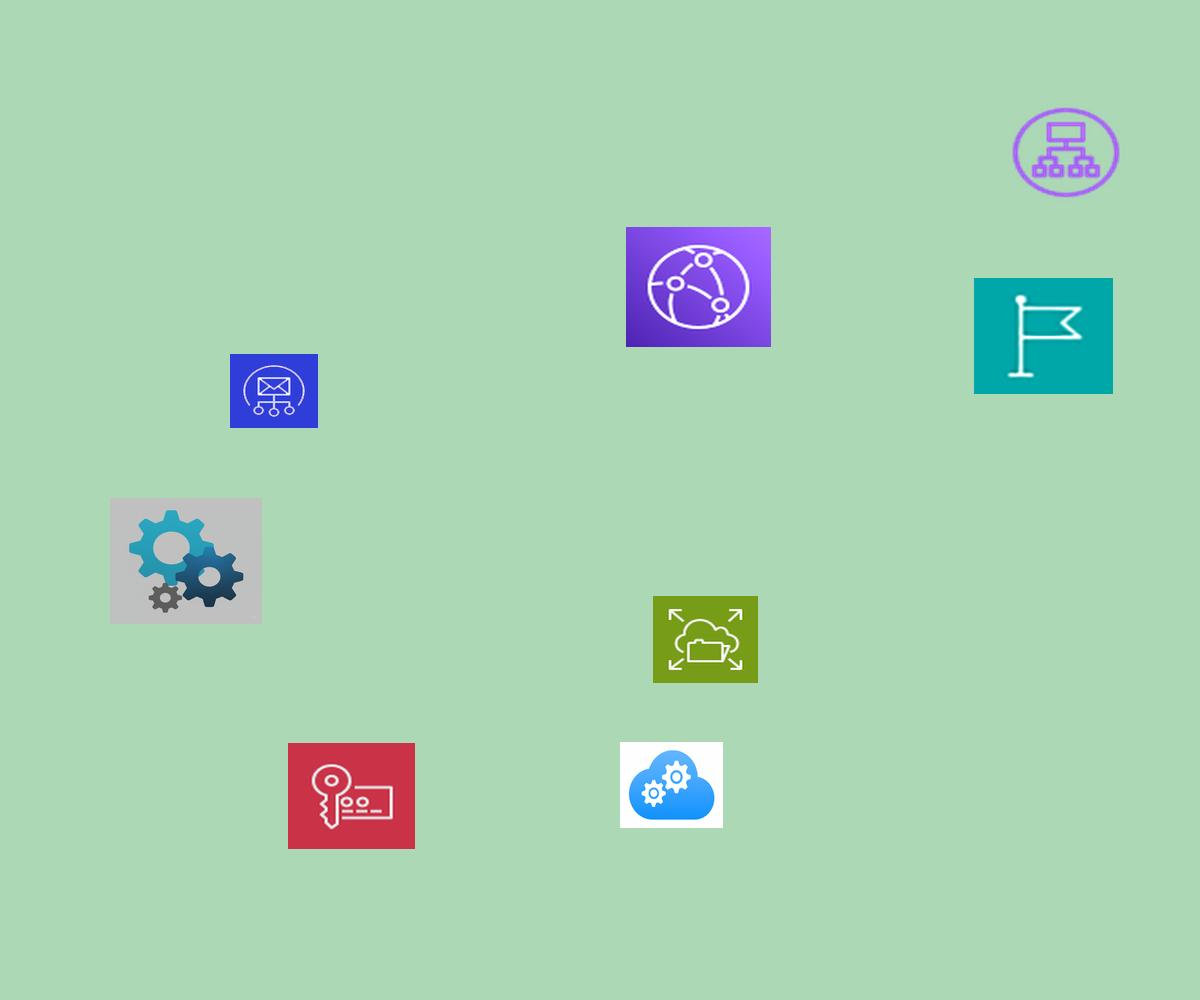AWS-CloudFront: (626, 227, 771, 347)
AWS-EFS: (653, 596, 758, 683)
AWS-Key-Management-Service: (288, 743, 415, 849)
AWS-Region: (974, 278, 1113, 394)
AWS-Res_Elastic-Load-Balancing_Application-Load-Balancer: (1008, 104, 1124, 201)
AWS-Simple-Email-Service: (230, 354, 318, 428)
Azure_api: (110, 498, 262, 624)
Azure_cloud_services: (620, 742, 723, 828)
